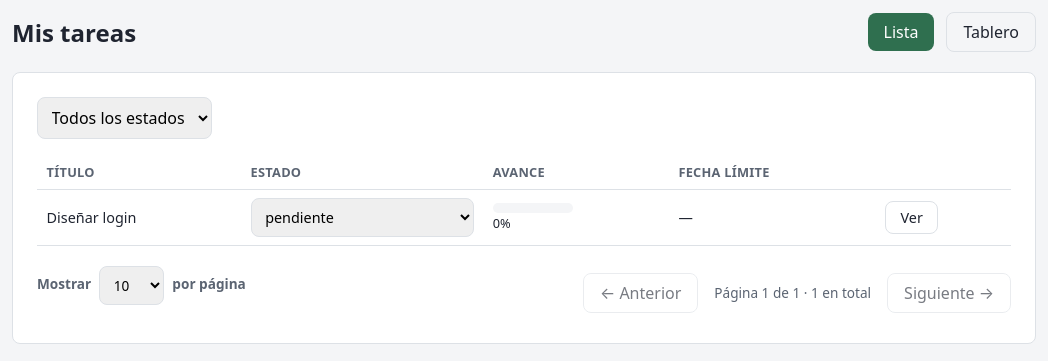
Test case: WorkerTasks — tablero › en modo tablero se ven las columnas por estado, no la tabla
Expected: the text "Diseñar login" is shown, [37,190,241,246]
Click the button "Tablero" at (991, 32), box [946,12,1036,52]
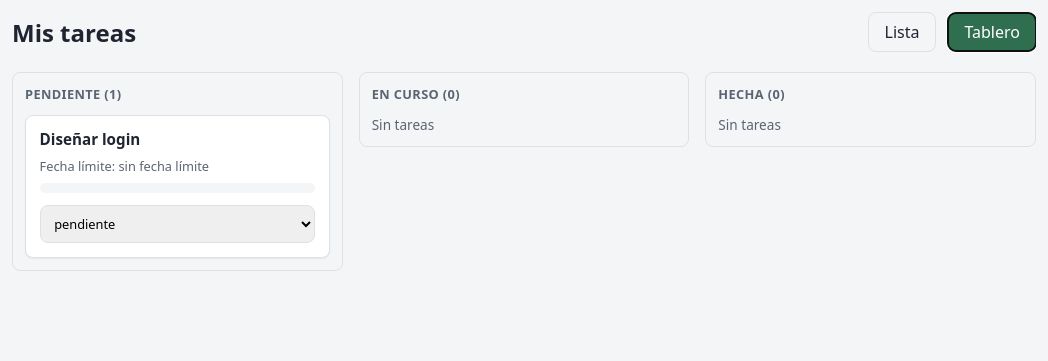
Result: the heading "pendiente (1)" is shown at [25,85,122,103]
Result: the table is gone
